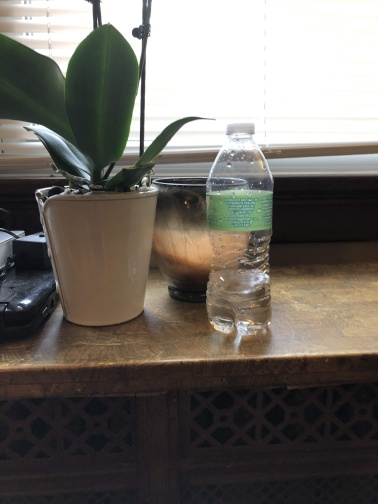bottle: (204, 120, 277, 337)
